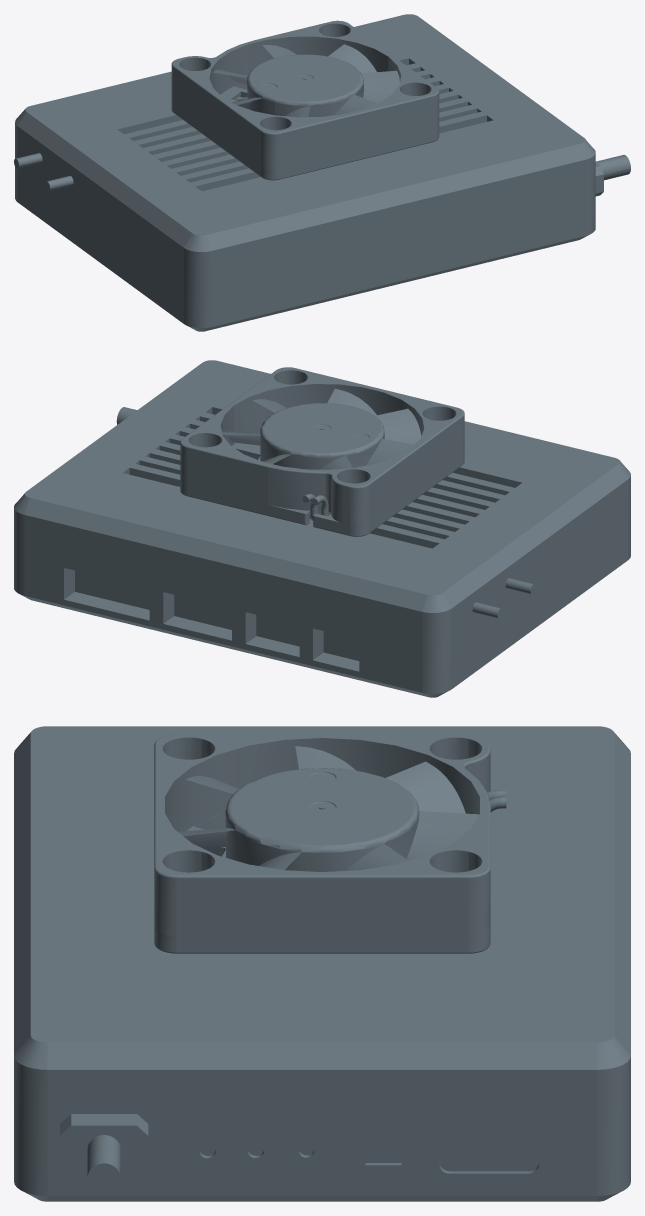
The picture shows the model from 3 angles, top to bottom: view 1: azimuth 30°, elevation 25°; view 2: azimuth 150°, elevation 25°; view 3: azimuth 270°, elevation 25°; orthographic projection. The views are drawn at different scales.
Parts seen in each view (by area): view 1: .hm30.obj; view 2: .hm30.obj; view 3: .hm30.obj.
Boxes of the visible parts, bbox=[...] form: .hm30.obj: bbox=[14, 14, 630, 331]; .hm30.obj: bbox=[14, 360, 630, 697]; .hm30.obj: bbox=[14, 726, 630, 1201].
Size of the model in its own units: 82.2 by 23.7 by 55.
